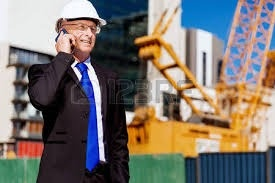helmet: (53, 1, 104, 30)
person with partial safety: (27, 1, 129, 183)
